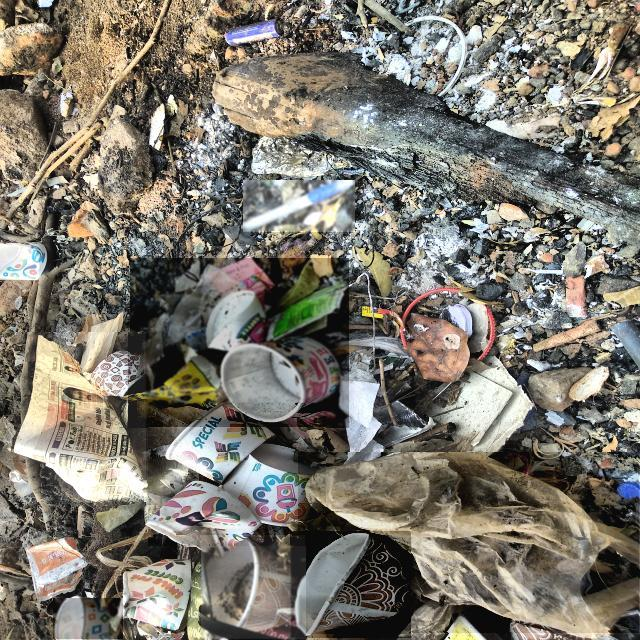anorganik: (298, 452, 638, 632), (130, 258, 349, 428), (148, 404, 326, 546), (291, 532, 411, 638), (202, 536, 306, 640), (244, 180, 355, 231), (54, 599, 123, 638)
organik: (14, 332, 145, 502)
